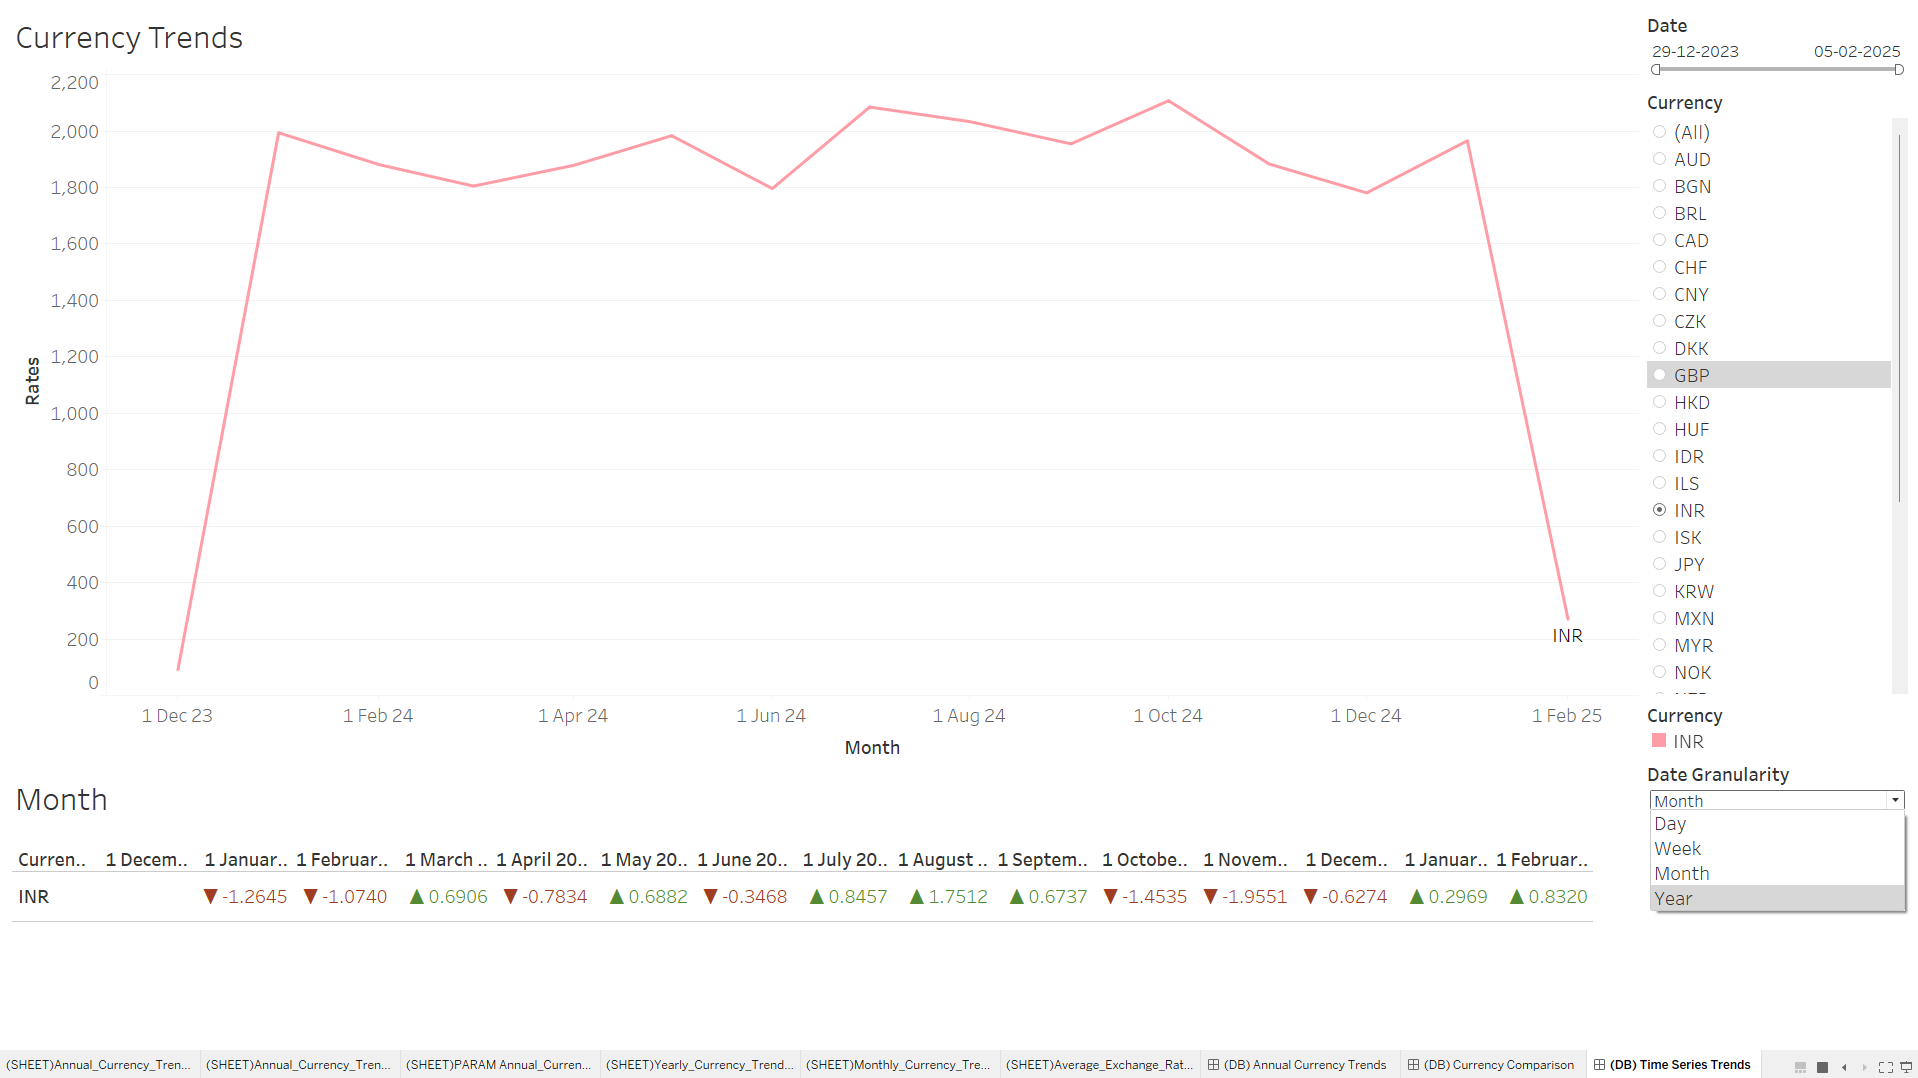

This screenshot's page, from the dashboard's own definition file:
{"tool":"tableau","page":{"name":"(DB) Time Series Trends ","canvas":[1000,1000],"units":"permille","ordinal":2},"visuals":[{"type":"worksheet","title":"(SHEET)PARAM Annual_Currency_Trends (2)","mark":"Line","rows":["Rates (copy)_1711086427370254337"],"cols":["Calculation_1711086427652558851"],"box":[5,9.4,850.4,722.8]},{"type":"filter","title":"(SHEET)PARAM Annual_Currency_Trends (2)","param":"[federated.1v11yo518a9j6g1fef7st0lkwzgw].[none:DATE:qk]","box":[855.4,9.4,139.7,90.1]},{"type":"filter","title":"(SHEET)PARAM Annual_Currency_Trends (2)","param":"[federated.1v11yo518a9j6g1fef7st0lkwzgw].[none:currency:nk]","box":[855.4,99.4,139.7,717]},{"type":"worksheet","title":"(SHEET)Monthly_Currency_Trends_Table (2)","mark":"Text","rows":["currency"],"cols":["Calculation_1711086427652558851"],"box":[5,732.2,850.4,258.5]},{"type":"legend","title":"(SHEET)PARAM Annual_Currency_Trends (2)","param":"[federated.1v11yo518a9j6g1fef7st0lkwzgw].[none:currency:nk]","box":[855.4,816.4,139.7,69]},{"type":"parameter","param":"[Parameters].[Parameter 1]","box":[855.4,885.4,139.7,70.2]}]}

Visuals, with their boxes on the dashboard's canvas, which has no fixed pixel size, in thousandths of its width and height (x1, y1, x2, y2). These are canvas units, not pixel positions in the 1918x1078 screenshot, which may show the page scaled, cropped or inside an application window:
"(SHEET)PARAM Annual_Currency_Trends (2)" worksheet (Line marks): <region>5, 9, 855, 732</region>
"(SHEET)PARAM Annual_Currency_Trends (2)" filter: <region>855, 9, 995, 100</region>
"(SHEET)PARAM Annual_Currency_Trends (2)" filter: <region>855, 99, 995, 816</region>
"(SHEET)Monthly_Currency_Trends_Table (2)" worksheet (Text marks): <region>5, 732, 855, 991</region>
"(SHEET)PARAM Annual_Currency_Trends (2)" legend: <region>855, 816, 995, 885</region>
parameter: <region>855, 885, 995, 956</region>
